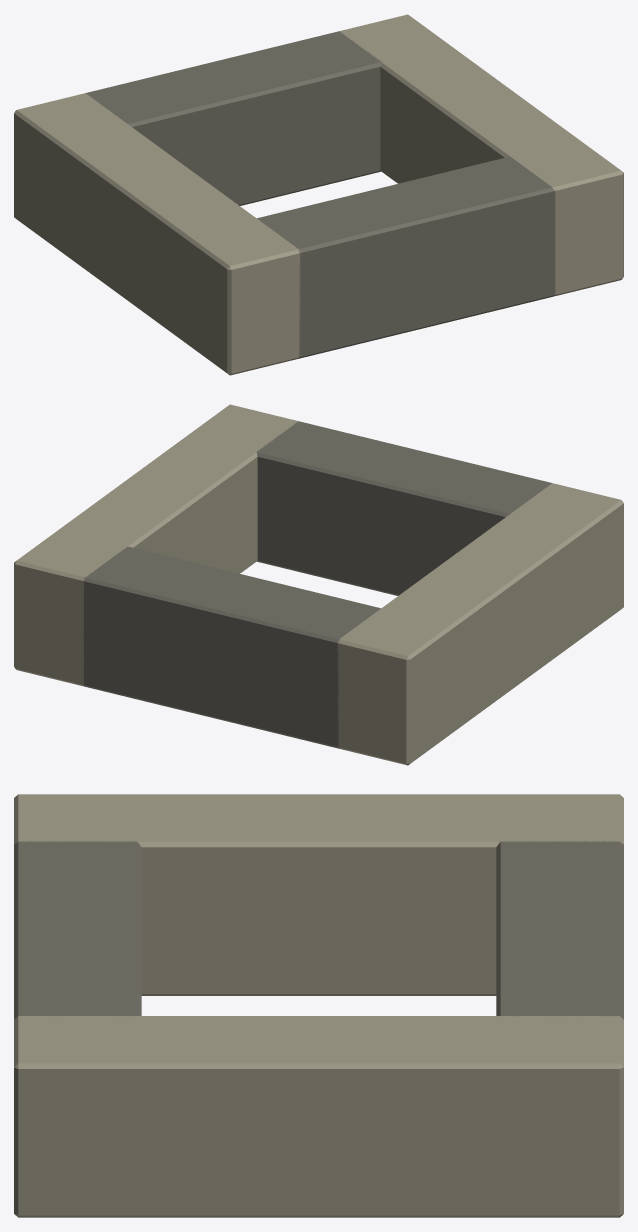
The model's file is chimney_cap.glb.
The picture shows the model from 3 angles, top to bottom: view 1: azimuth 30°, elevation 25°; view 2: azimuth 150°, elevation 25°; view 3: azimuth 270°, elevation 25°; orthographic projection. The views are drawn at different scales.
Visible parts, largest first — view 1: chimney_cap__body__stone, chimney_cap__body__stone_dark; view 2: chimney_cap__body__stone, chimney_cap__body__stone_dark; view 3: chimney_cap__body__stone, chimney_cap__body__stone_dark.
Boxes of the visible parts, x1,y1,x2,y2 form: chimney_cap__body__stone: [14, 14, 623, 375]; chimney_cap__body__stone_dark: [86, 31, 555, 358]; chimney_cap__body__stone: [14, 404, 623, 765]; chimney_cap__body__stone_dark: [82, 421, 551, 748]; chimney_cap__body__stone: [14, 794, 623, 1217]; chimney_cap__body__stone_dark: [14, 841, 623, 1019].
Bounding box in the file's own units: 0.91 × 0.24 × 0.86.
